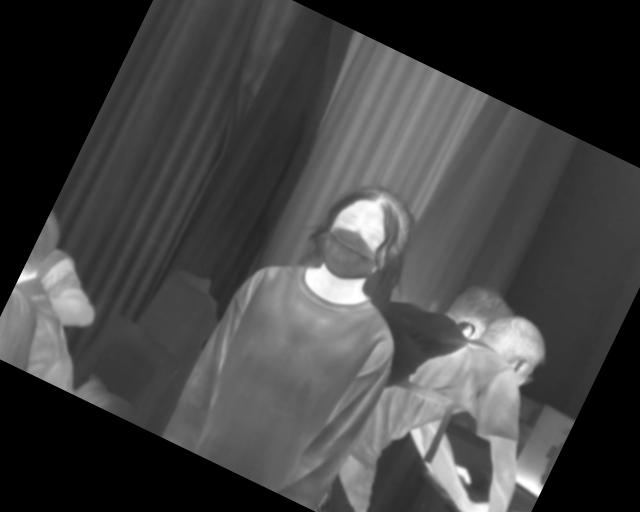face: (305, 170, 424, 298)
